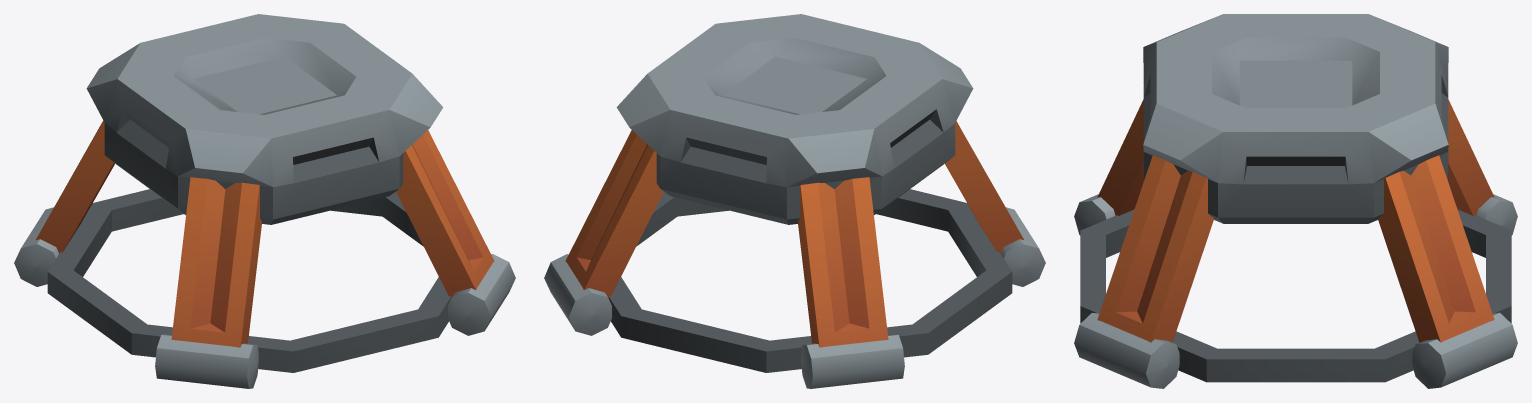
The model's file is Platform.glb.
The picture shows the model from 3 angles, left to right: view 1: azimuth 30°, elevation 25°; view 2: azimuth 150°, elevation 25°; view 3: azimuth 270°, elevation 25°; orthographic projection. The views are drawn at different scales.
Visible parts, largest first — view 1: structure_low; view 2: structure_low; view 3: structure_low.
Part boxes in pixels (<box>): structure_low: <box>14,14,515,388</box>; structure_low: <box>544,14,1045,388</box>; structure_low: <box>1074,14,1517,388</box>.
Size of the model in its own units: 1.75 by 1 by 1.75.
Materials: 1 (1 with a texture image).
